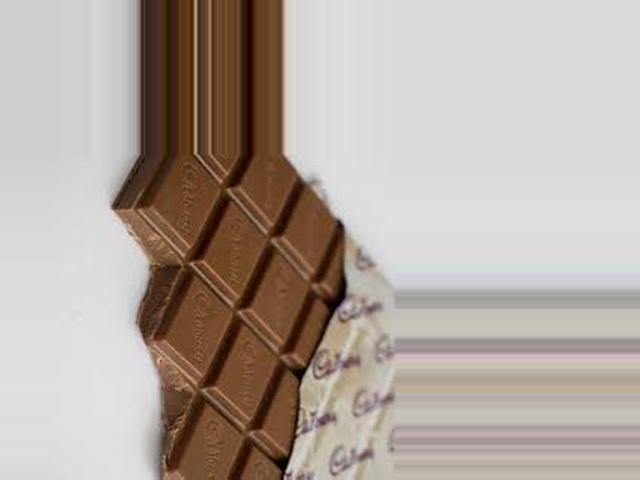chocolate: (136, 157, 391, 478)
